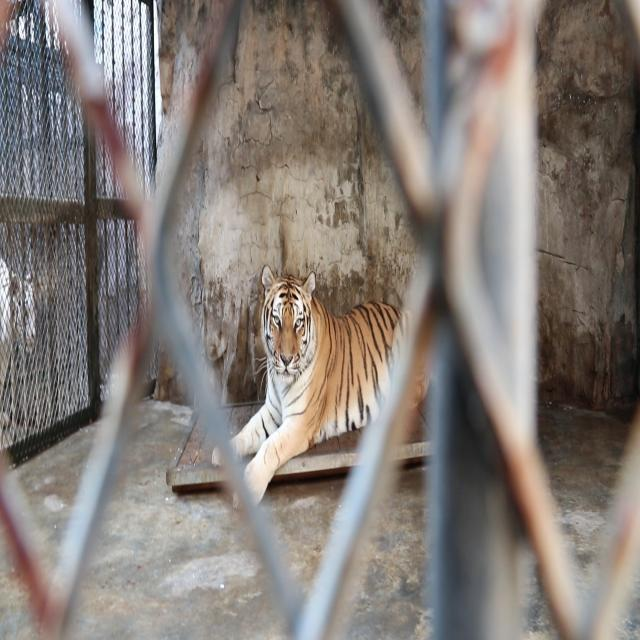Tiger: (225, 237, 426, 577)
